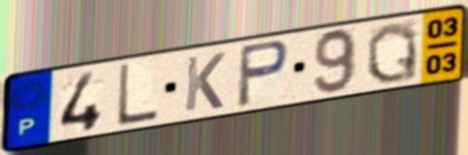4: (57, 68, 105, 133)
9: (311, 26, 360, 98)
K: (182, 50, 228, 115)
L: (114, 61, 161, 130)
P: (234, 37, 292, 110)
Q: (364, 20, 420, 86)
